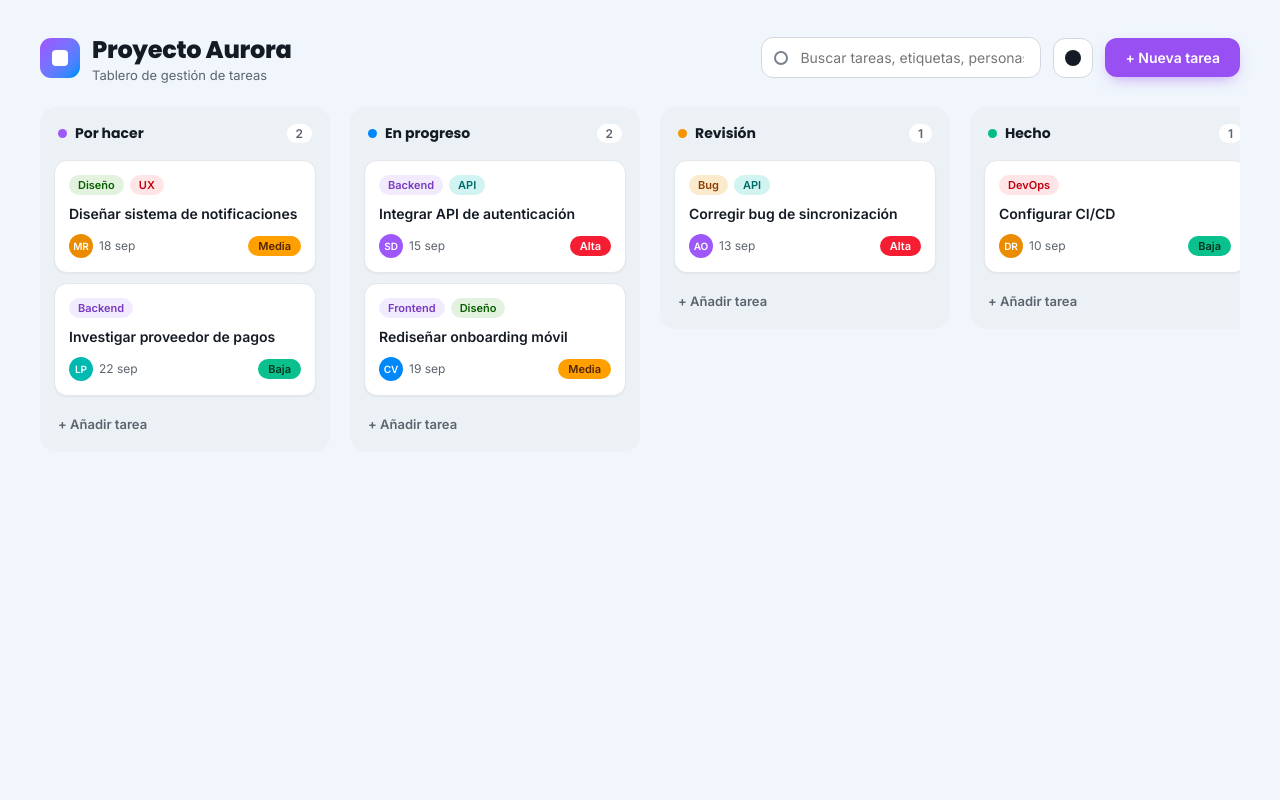
Test: create task › drives the column <select> directly: creating in a non-default column appends there
The width and height of the screenshot is (1280, 800).
Click the button "+ Nueva tarea" at (1173, 58), box [1105,38,1240,77]
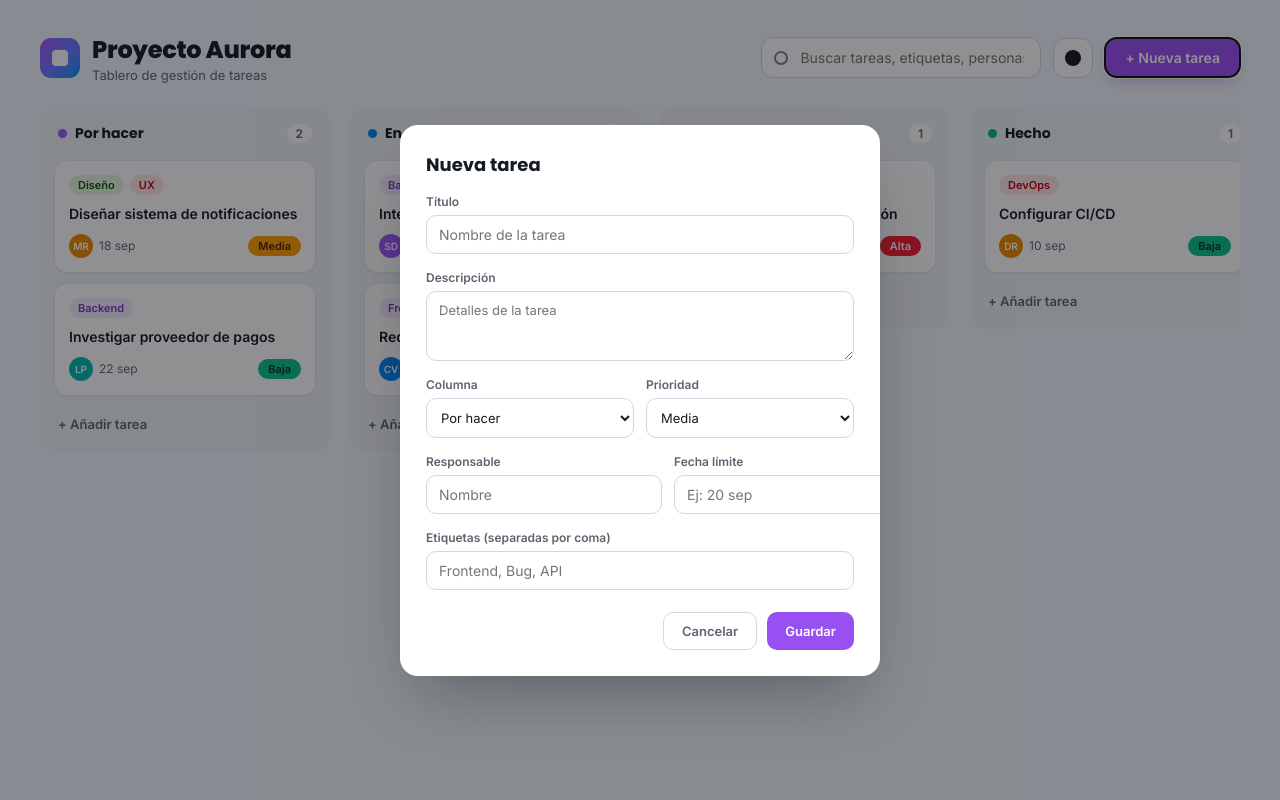
Select "Revisión" in the dropdown labelled "Columna" at (530, 418), box [426,398,634,438]
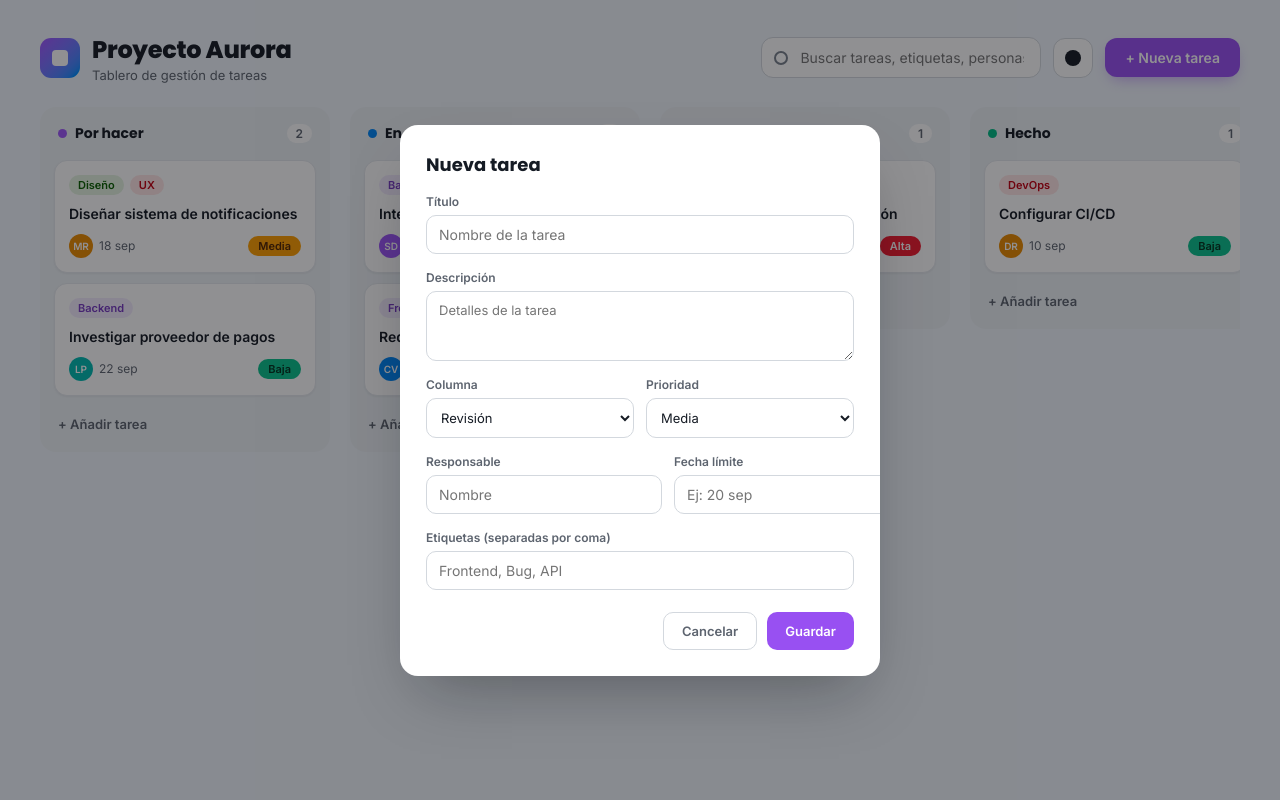
Type "Tarea para revisión" into the field with placeholder "Nombre de la tarea" at (640, 234), box [426,214,854,254]
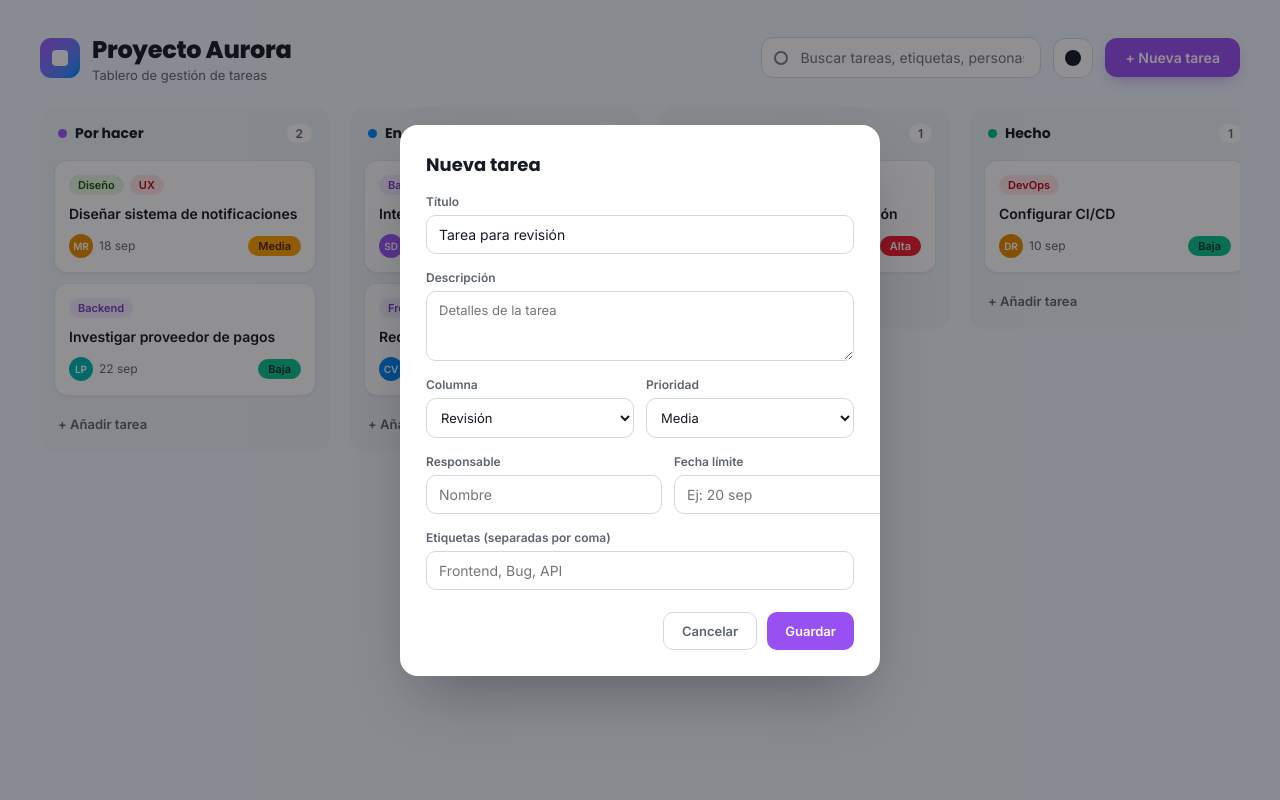
Click the button "Guardar" at (811, 630), box [767,612,854,650]
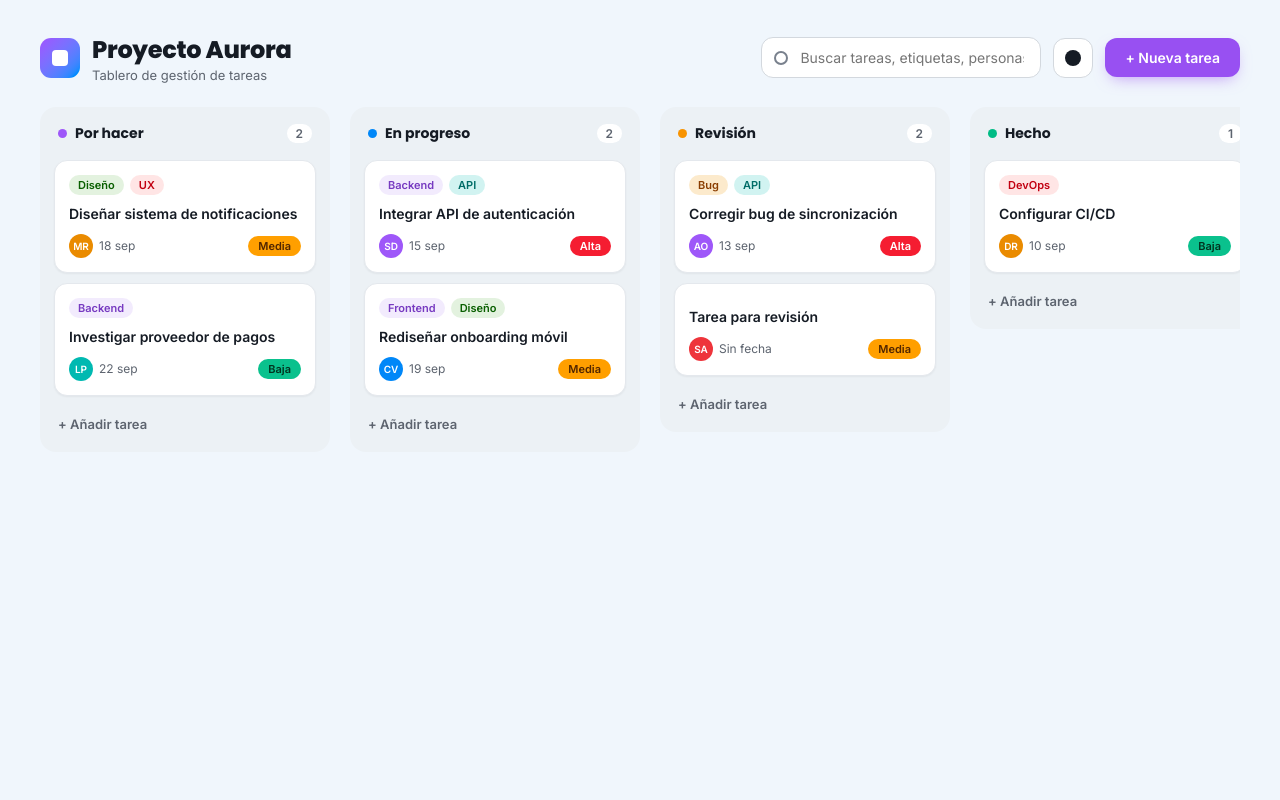
Check: the text "Tarea para revisión" is shown, box [689,308,818,325]
